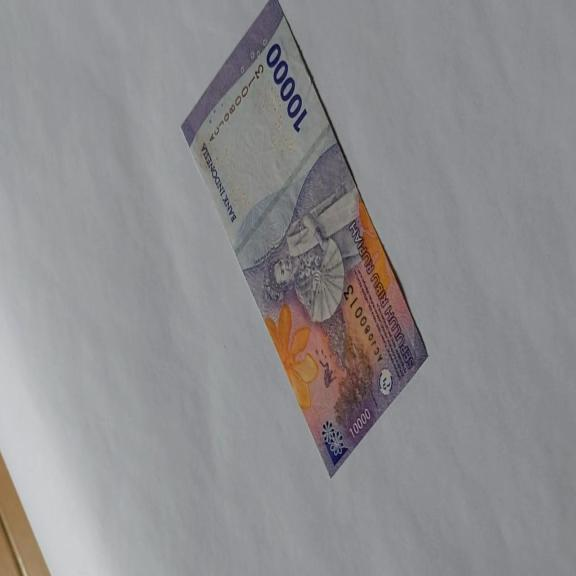Kertas: (180, 1, 429, 479), (265, 41, 308, 134)
